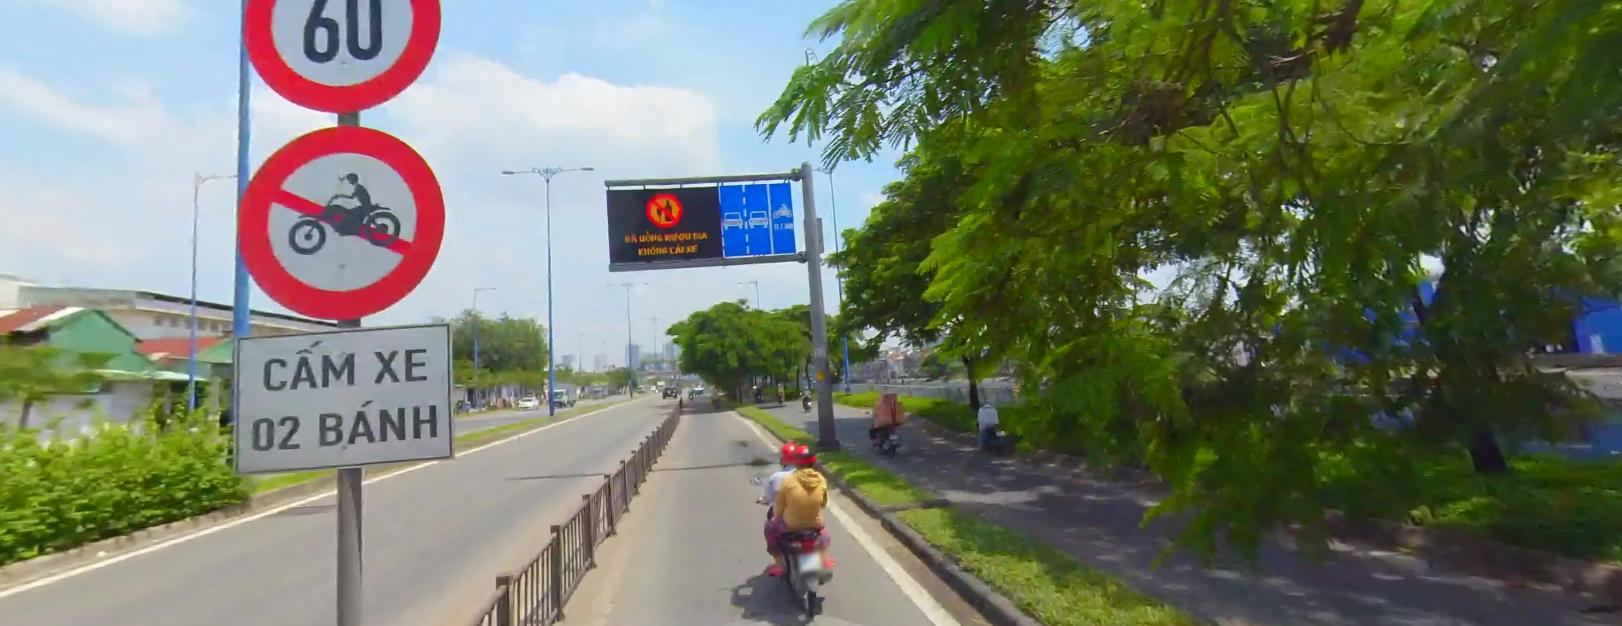Cam con lai: (227, 120, 451, 321)
Gioi han toc do: (233, 0, 442, 107)
